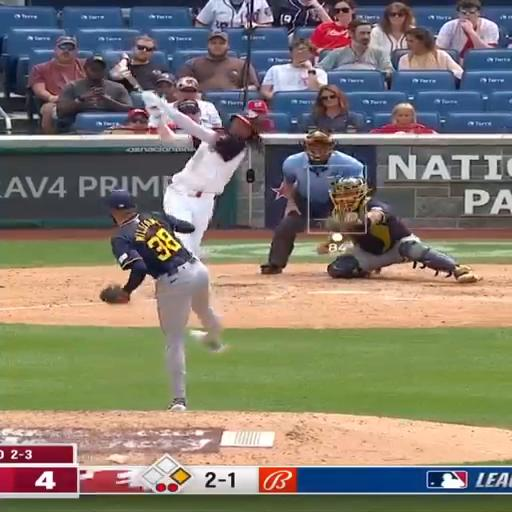bat: (123, 69, 146, 96)
